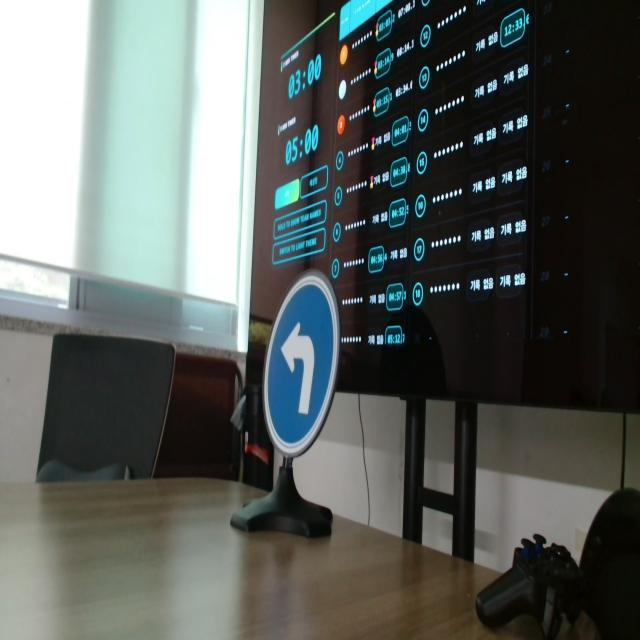left_direction: (251, 268, 358, 466)
